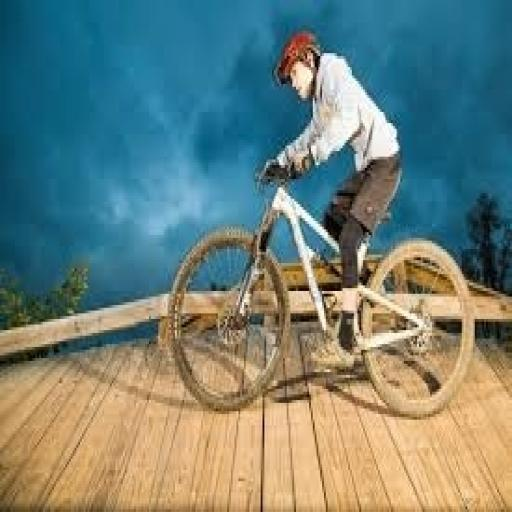cycling: (259, 28, 406, 375)
